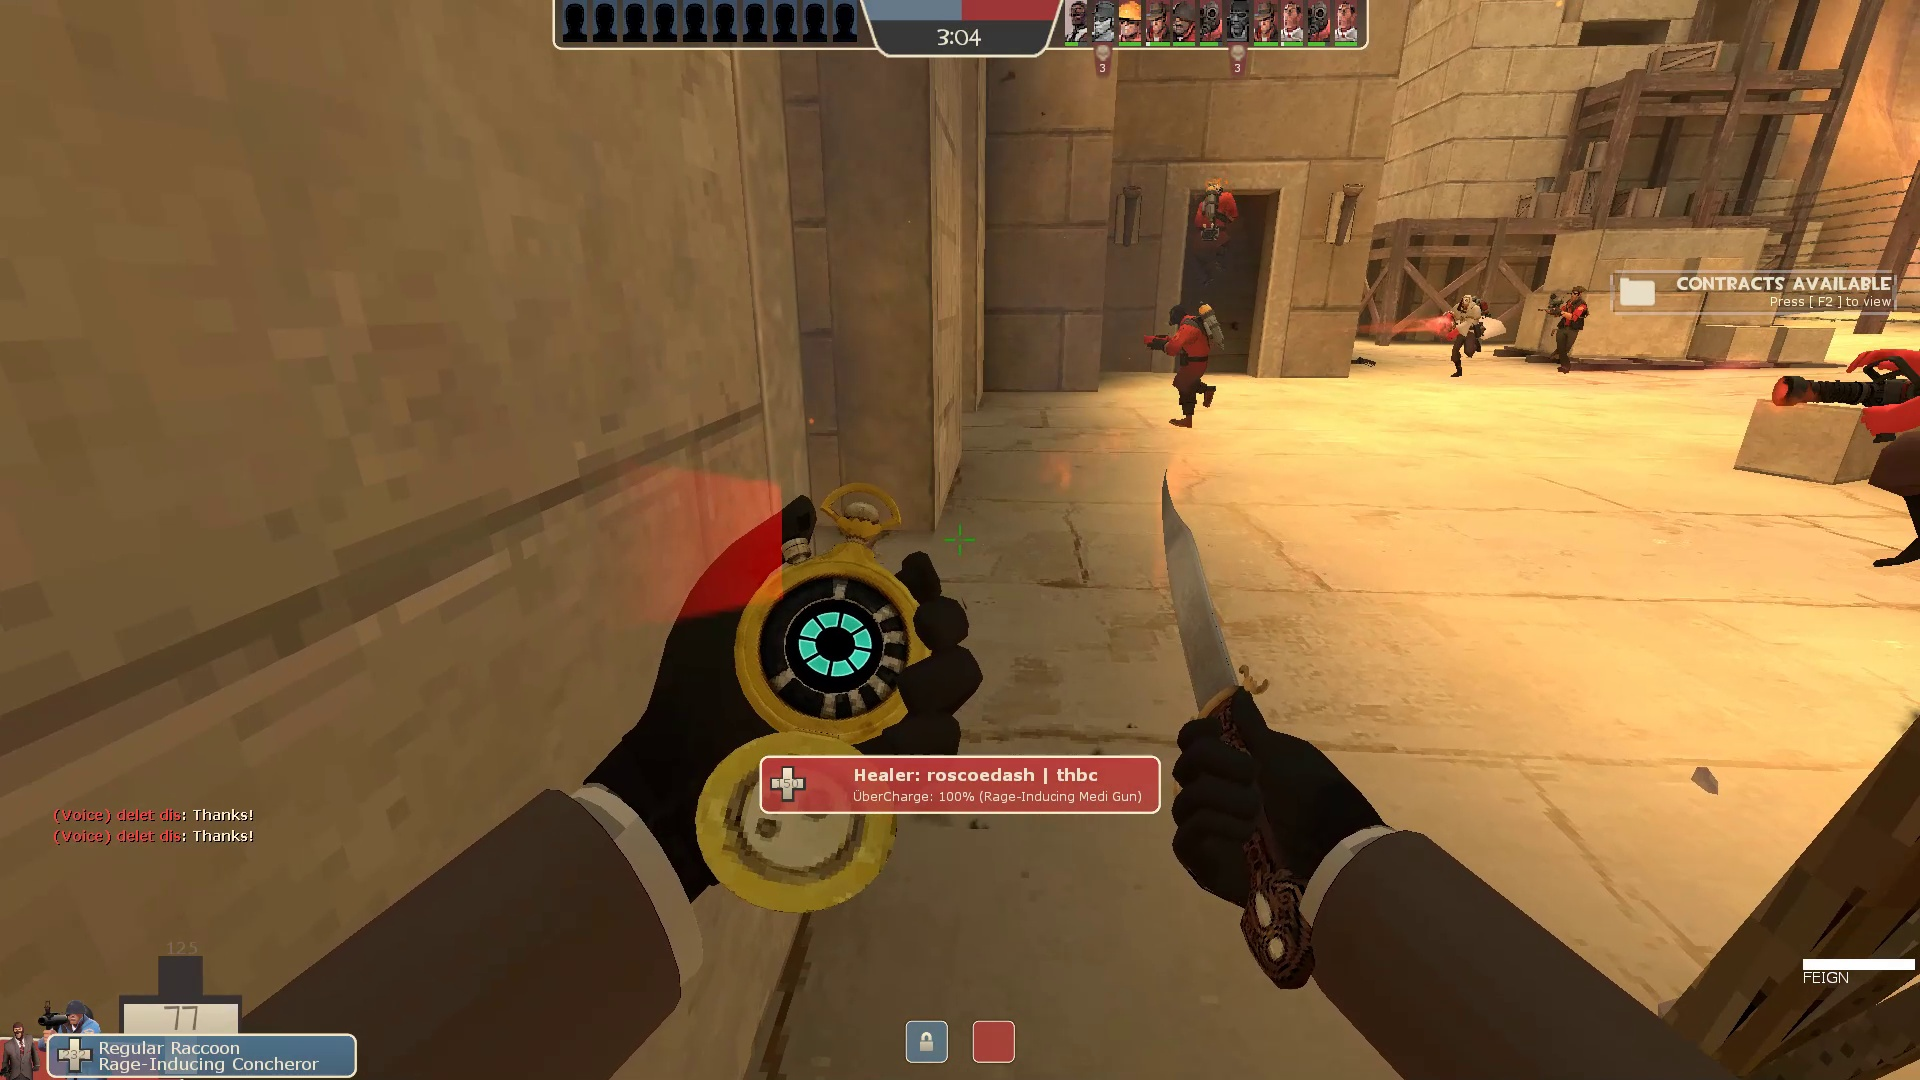red_medic: (1760, 322, 1920, 585), (1436, 291, 1509, 381)
red_pyro: (1145, 298, 1230, 436), (1182, 175, 1244, 285)
red_sniper: (1535, 284, 1594, 375)
